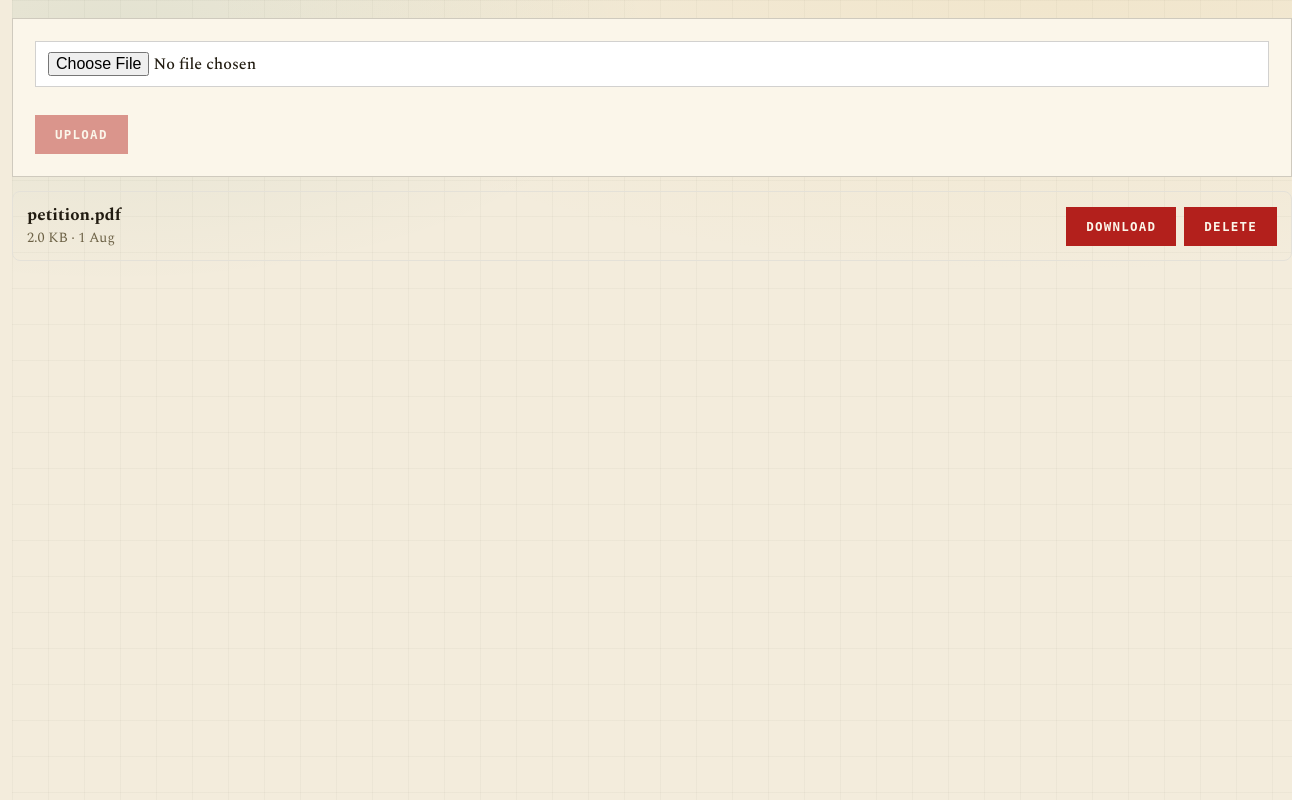
Test case: CaseDocuments › deletes a document after confirmation
Expected: the text "petition.pdf" is shown, [27,202,121,228]
Step 1. Click the button "Delete" → click(1231, 226), box [1184,207,1277,246]
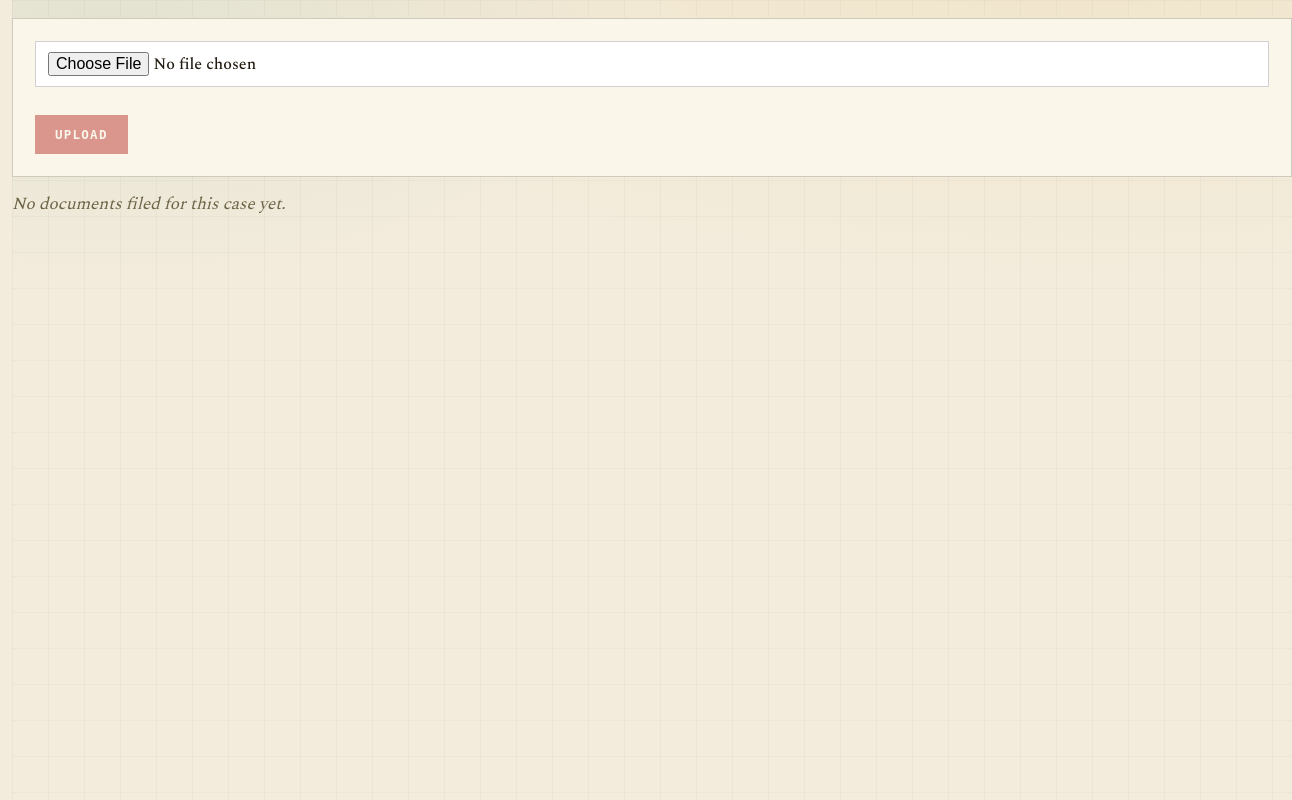
Now the text "No documents filed for this case yet." is shown, box [12,191,286,217]
